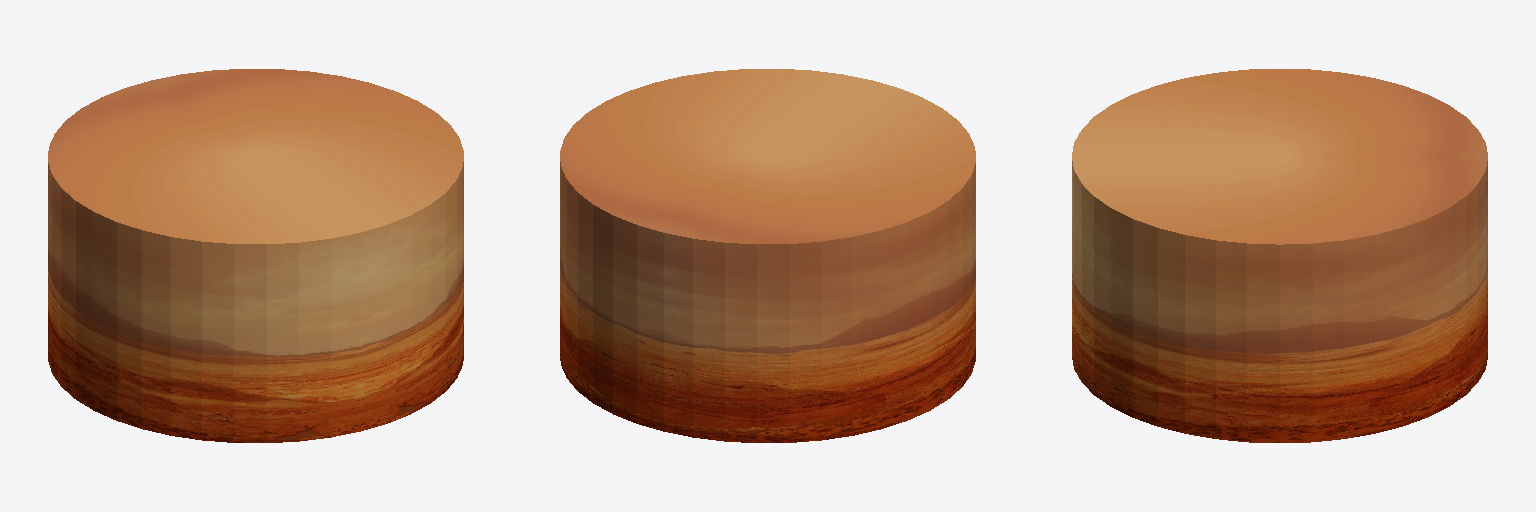
3 views of the same model, side by side, from view 1: azimuth 30°, elevation 25°; view 2: azimuth 150°, elevation 25°; view 3: azimuth 270°, elevation 25° (orthographic).
Visible parts, largest first — view 1: Cylinder001; view 2: Cylinder001; view 3: Cylinder001.
Part boxes in pixels (bbox=[...]): Cylinder001: bbox=[48, 69, 463, 442]; Cylinder001: bbox=[560, 69, 975, 442]; Cylinder001: bbox=[1072, 69, 1487, 442].
Bounding box in the file's own units: 59.16 × 31.15 × 59.16.
Materials: 1 (1 with a texture image).